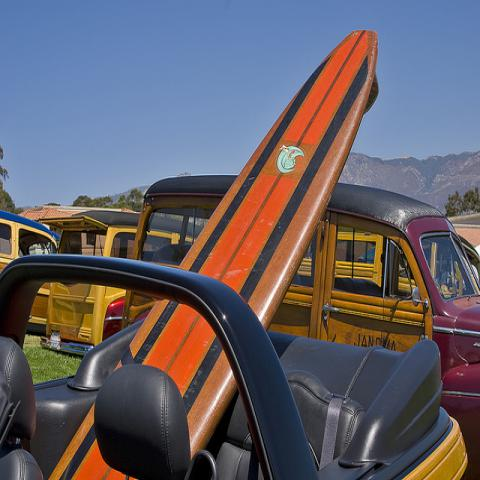car: (127, 173, 480, 474), (0, 251, 469, 475), (36, 205, 139, 357), (0, 210, 56, 271)
